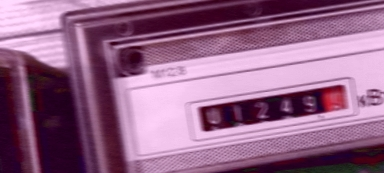0: (206, 106, 221, 127)
1: (230, 104, 243, 124)
2: (254, 100, 269, 122)
4: (279, 97, 292, 117)
7: (326, 86, 340, 107)
9: (302, 94, 317, 116)
screen: (178, 78, 357, 142)
